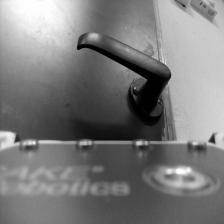Door Handle: (76, 31, 172, 125)
